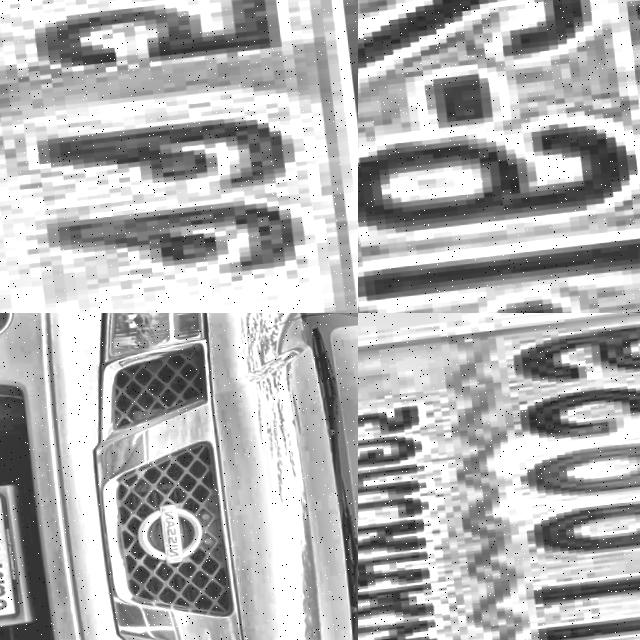license-plate: (0, 0, 358, 313), (358, 313, 640, 640), (358, 0, 640, 313)
